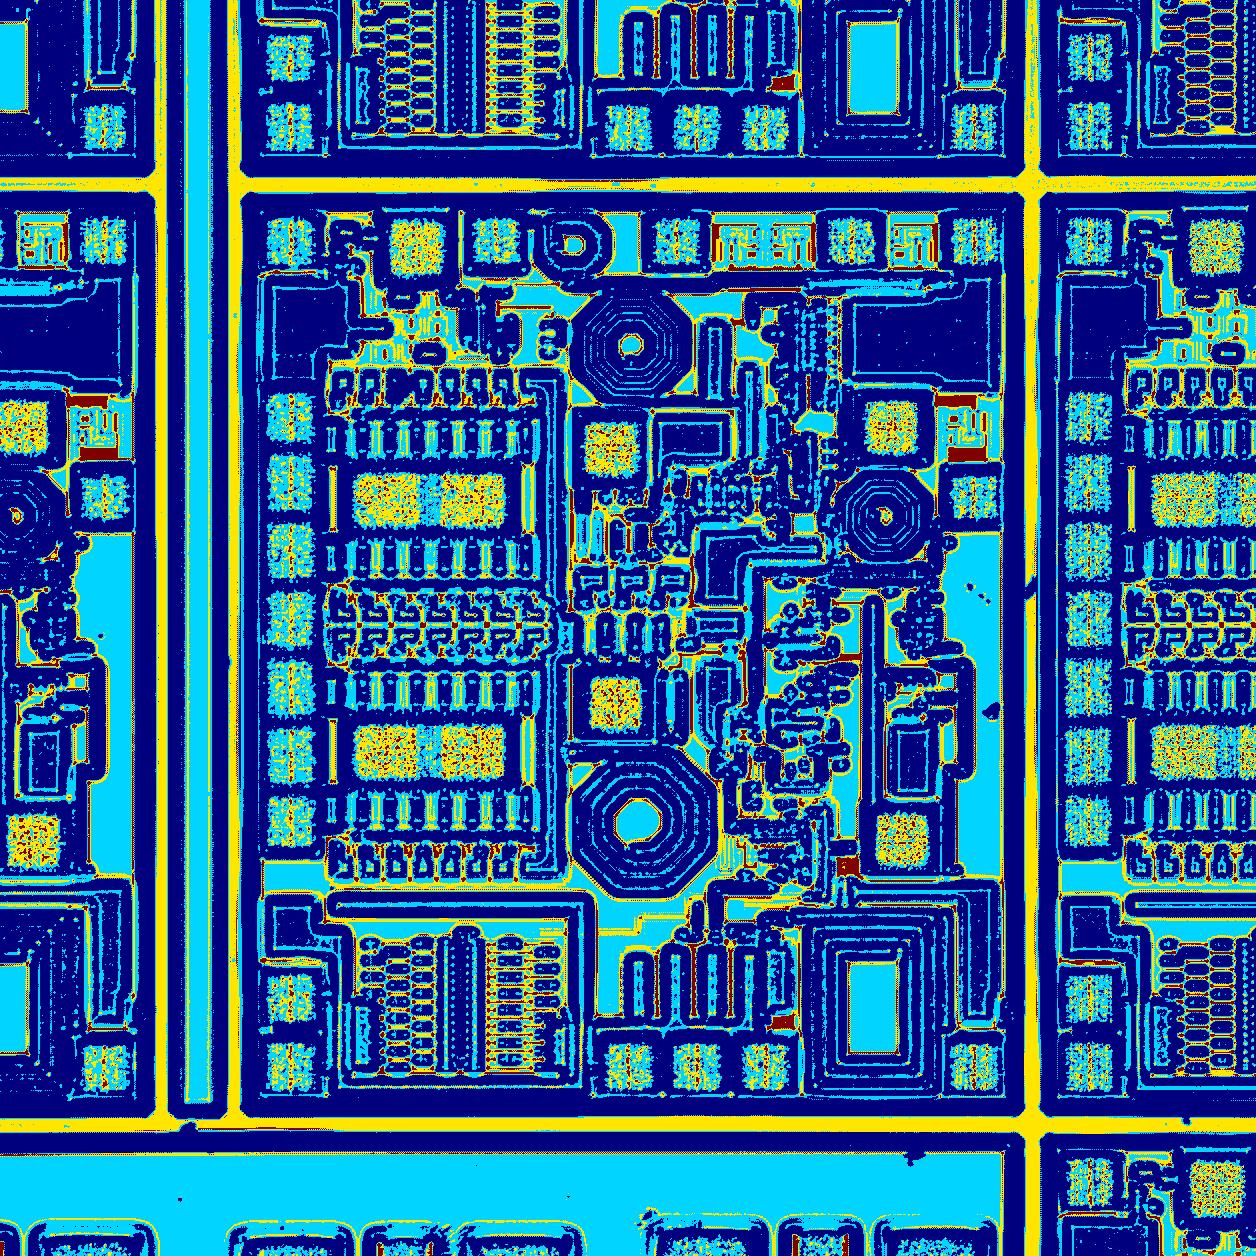Die: (242, 192, 1025, 1118)
Pad 1: (352, 472, 422, 529), (438, 472, 505, 529), (354, 723, 420, 781), (438, 723, 505, 780), (390, 219, 444, 275), (583, 421, 638, 475), (865, 400, 919, 454), (876, 811, 929, 866), (590, 676, 641, 729)
Pad 2: (267, 590, 316, 649), (267, 726, 315, 784), (267, 522, 315, 579), (267, 454, 314, 512), (268, 660, 315, 717), (266, 796, 316, 848), (266, 391, 314, 442), (267, 974, 316, 1023), (268, 1041, 315, 1092), (267, 219, 316, 266), (673, 1042, 721, 1089), (951, 1043, 998, 1090), (742, 1042, 789, 1089), (653, 219, 702, 265), (474, 219, 522, 265), (605, 1043, 652, 1089), (954, 216, 1000, 263), (829, 219, 878, 263), (951, 476, 998, 520)
